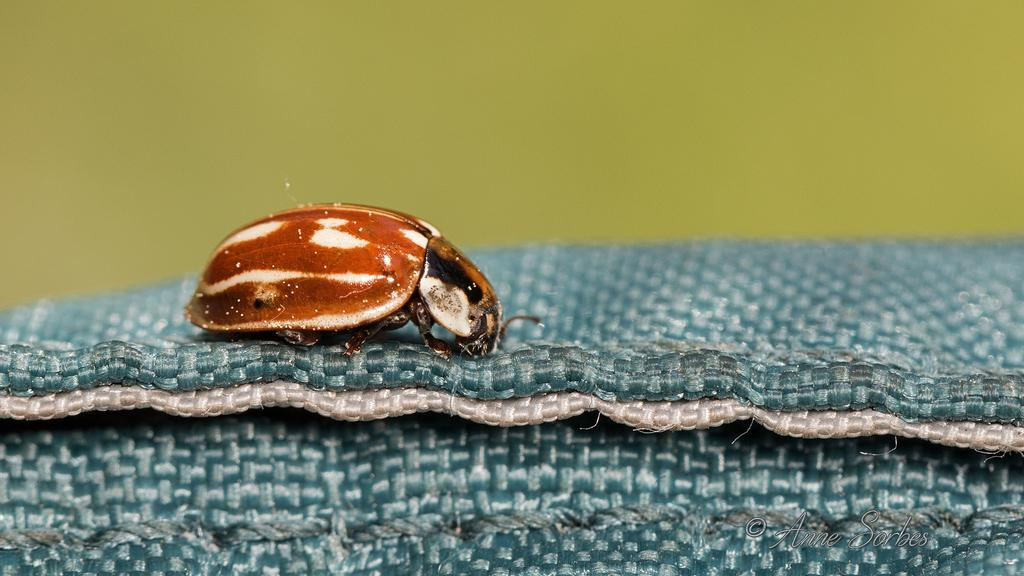ladybug: (183, 199, 544, 363)
